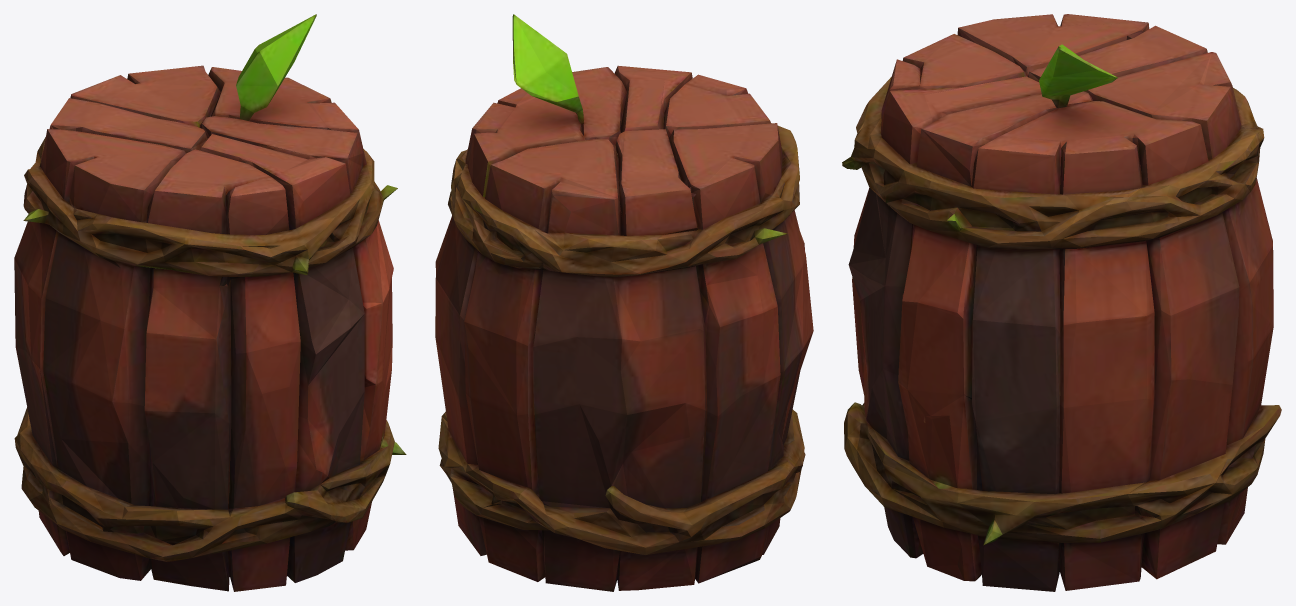
The model's file is d_racines_tonneau.glb.
3 renders of one model, left to right at view 1: azimuth 30°, elevation 25°; view 2: azimuth 150°, elevation 25°; view 3: azimuth 270°, elevation 25°, orthographic. The views are drawn at different scales.
Visible parts, largest first — view 1: geometry_0; view 2: geometry_0; view 3: geometry_0.
Part boxes in pixels (x1,y1,x2,y2): geometry_0: [14, 14, 406, 591]; geometry_0: [435, 14, 813, 591]; geometry_0: [842, 14, 1281, 591].
Bounding box in the file's own units: 0.7275 × 0.9981 × 0.7453.
Materials: 1 (1 with a texture image).
